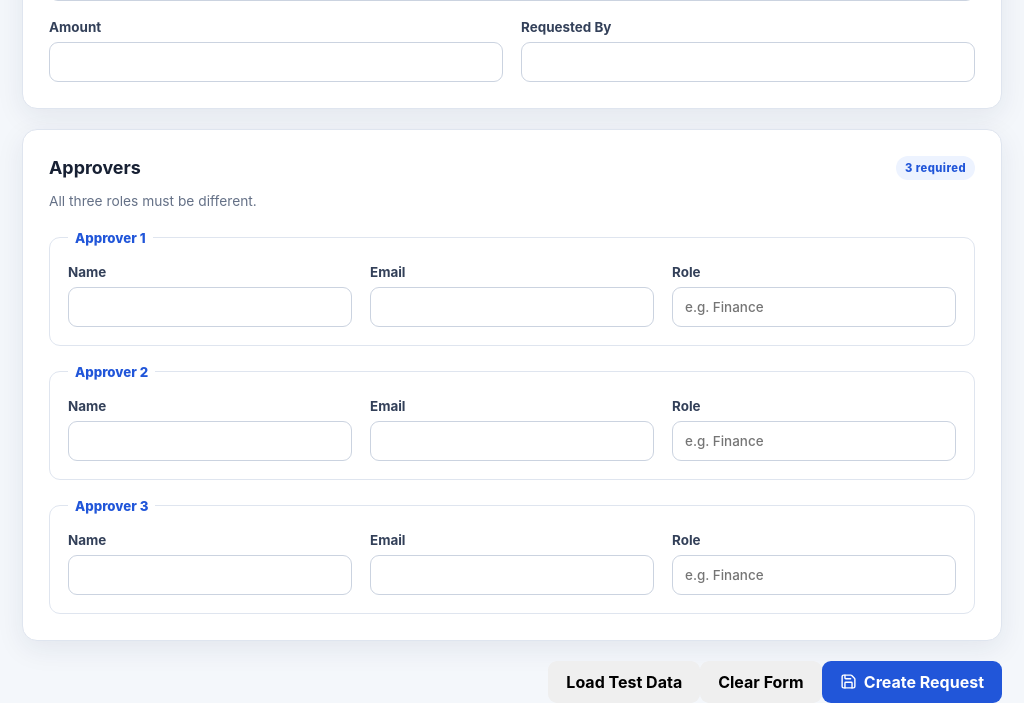
NewRequestPage › clears every form field without submitting
The image size is (1024, 703).
(page scrolled)
Step 1. Click the button "Load Test Data" → (624, 682), box x1=548 y1=661 x2=700 y2=702
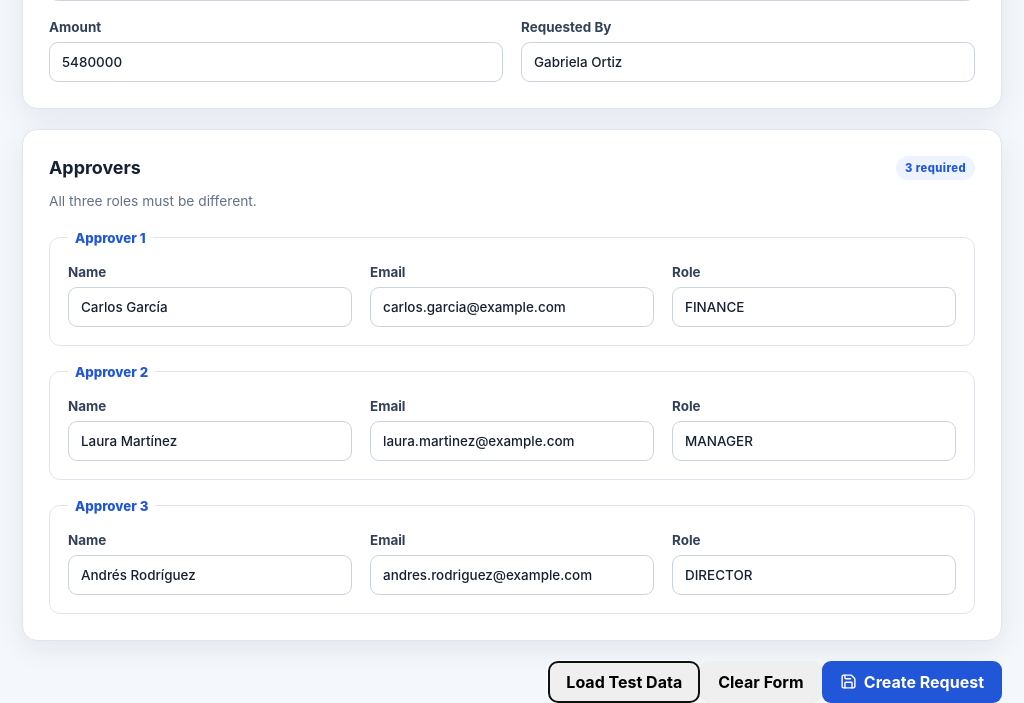
Step 2. Click the button "Clear Form" → (761, 682), box x1=700 y1=661 x2=822 y2=702
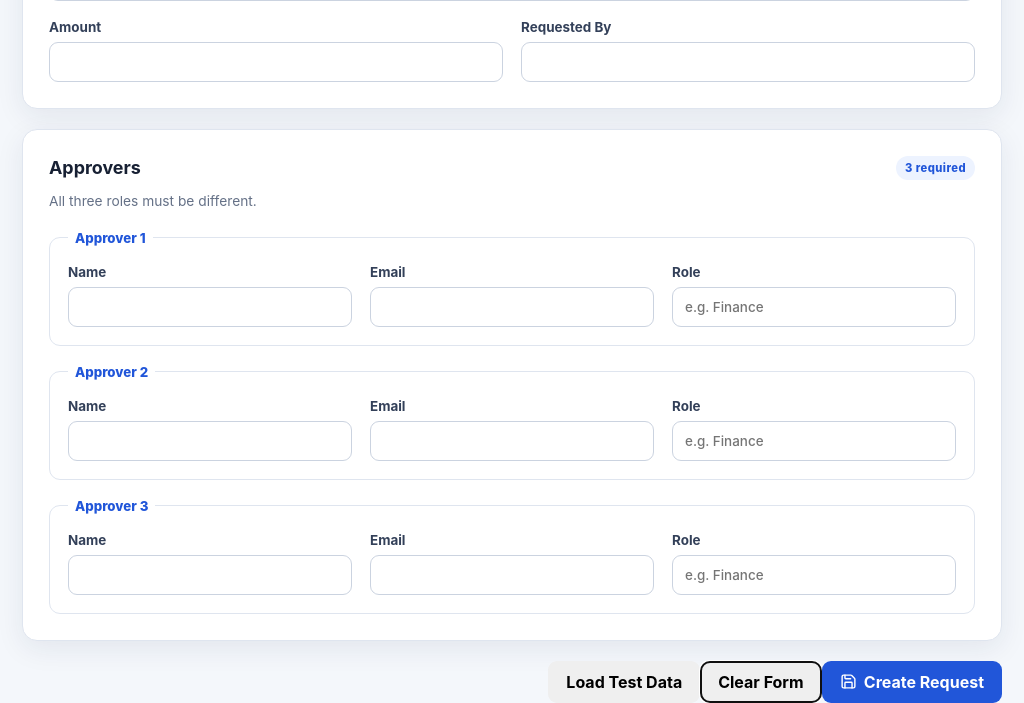
Now the number field labelled "Amount" is not empty, box x1=49 y1=42 x2=503 y2=82
Now the field labelled "Requested By" is empty, box x1=521 y1=42 x2=975 y2=82
Now the field labelled "Name" below "Approver 1" is empty, box x1=68 y1=287 x2=352 y2=327
